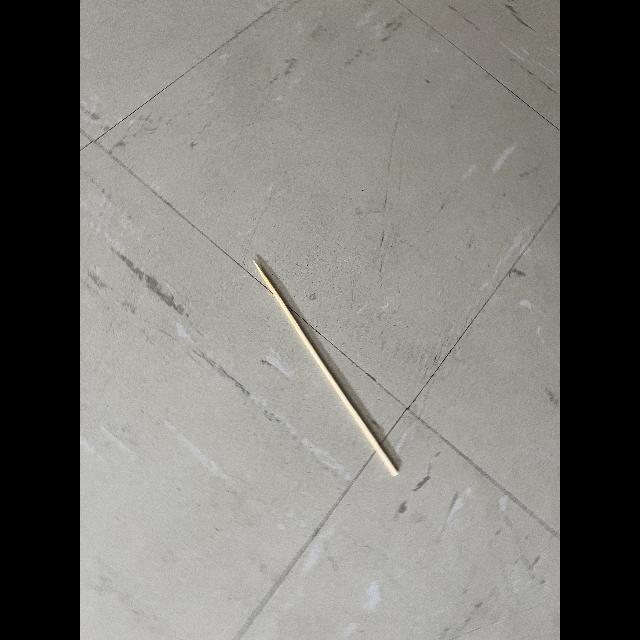stick: (246, 250, 408, 486)
